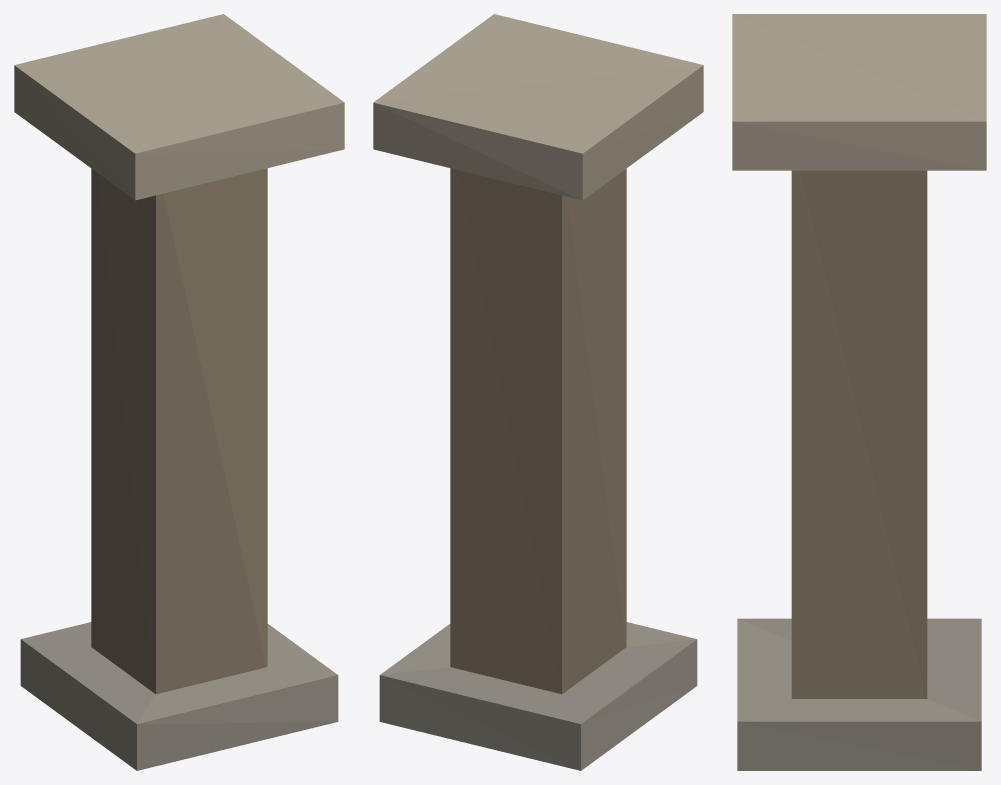
The model's file is bridge_support.glb.
3 views of the same model, side by side, from view 1: azimuth 30°, elevation 25°; view 2: azimuth 150°, elevation 25°; view 3: azimuth 270°, elevation 25° (orthographic). The views are drawn at different scales.
Parts seen in each view (by area): view 1: pillar, cap, foot; view 2: pillar, cap, foot; view 3: pillar, cap, foot.
Boxes of the visible parts, x1,y1,x2,y2 form: pillar: (91, 168, 267, 694); cap: (14, 14, 344, 200); foot: (20, 622, 338, 770); pillar: (450, 168, 626, 694); cap: (373, 14, 703, 200); foot: (379, 622, 697, 770); pillar: (791, 170, 927, 698); cap: (732, 14, 986, 170); foot: (737, 618, 981, 770).
Size of the model in its own units: 0.75 by 2.12 by 0.75.
